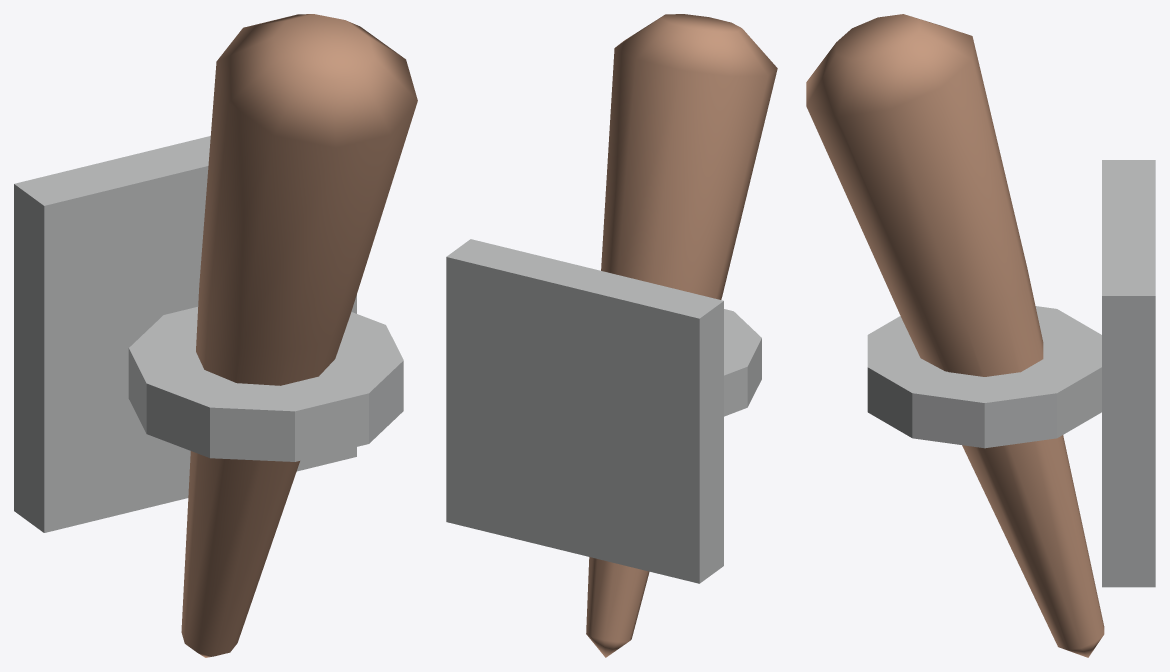
The model's file is torch.fbx.
3 views of the same model, side by side, from view 1: azimuth 30°, elevation 25°; view 2: azimuth 150°, elevation 25°; view 3: azimuth 270°, elevation 25° (orthographic). The views are drawn at different scales.
Parts seen in each view (by area): view 1: torchWallpiece, torch; view 2: torchWallpiece, torch; view 3: torch, torchWallpiece.
Boxes of the visible parts, x1,y1,x2,y2 form: torchWallpiece: (14, 136, 403, 532); torch: (181, 14, 417, 657); torchWallpiece: (446, 239, 761, 583); torch: (586, 14, 777, 657); torch: (806, 14, 1104, 657); torchWallpiece: (867, 160, 1155, 587).
Size of the model in its own units: 1.2 by 2.59 by 1.3.
